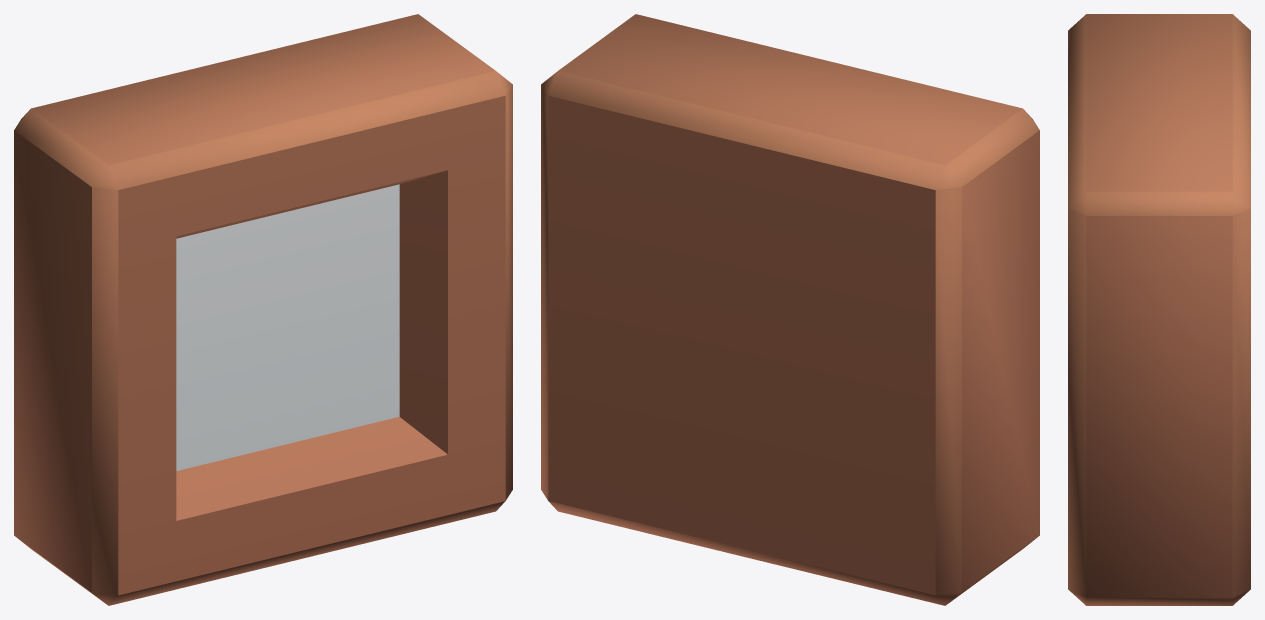
File: pictureframe_small_C.obj
3 views of the same model, side by side, from view 1: azimuth 30°, elevation 25°; view 2: azimuth 150°, elevation 25°; view 3: azimuth 270°, elevation 25° (orthographic). The views are drawn at different scales.
Visible parts, largest first — view 1: pictureframe_small_C_Cube.025; view 2: pictureframe_small_C_Cube.025; view 3: pictureframe_small_C_Cube.025.
Part boxes in pixels (x1,y1,x2,y2): pictureframe_small_C_Cube.025: (14,14,512,605); pictureframe_small_C_Cube.025: (541,14,1039,605); pictureframe_small_C_Cube.025: (1068,14,1250,605).
Size of the model in its own units: 0.5 by 0.5 by 0.2.
Materials: 1 (1 with a texture image).
